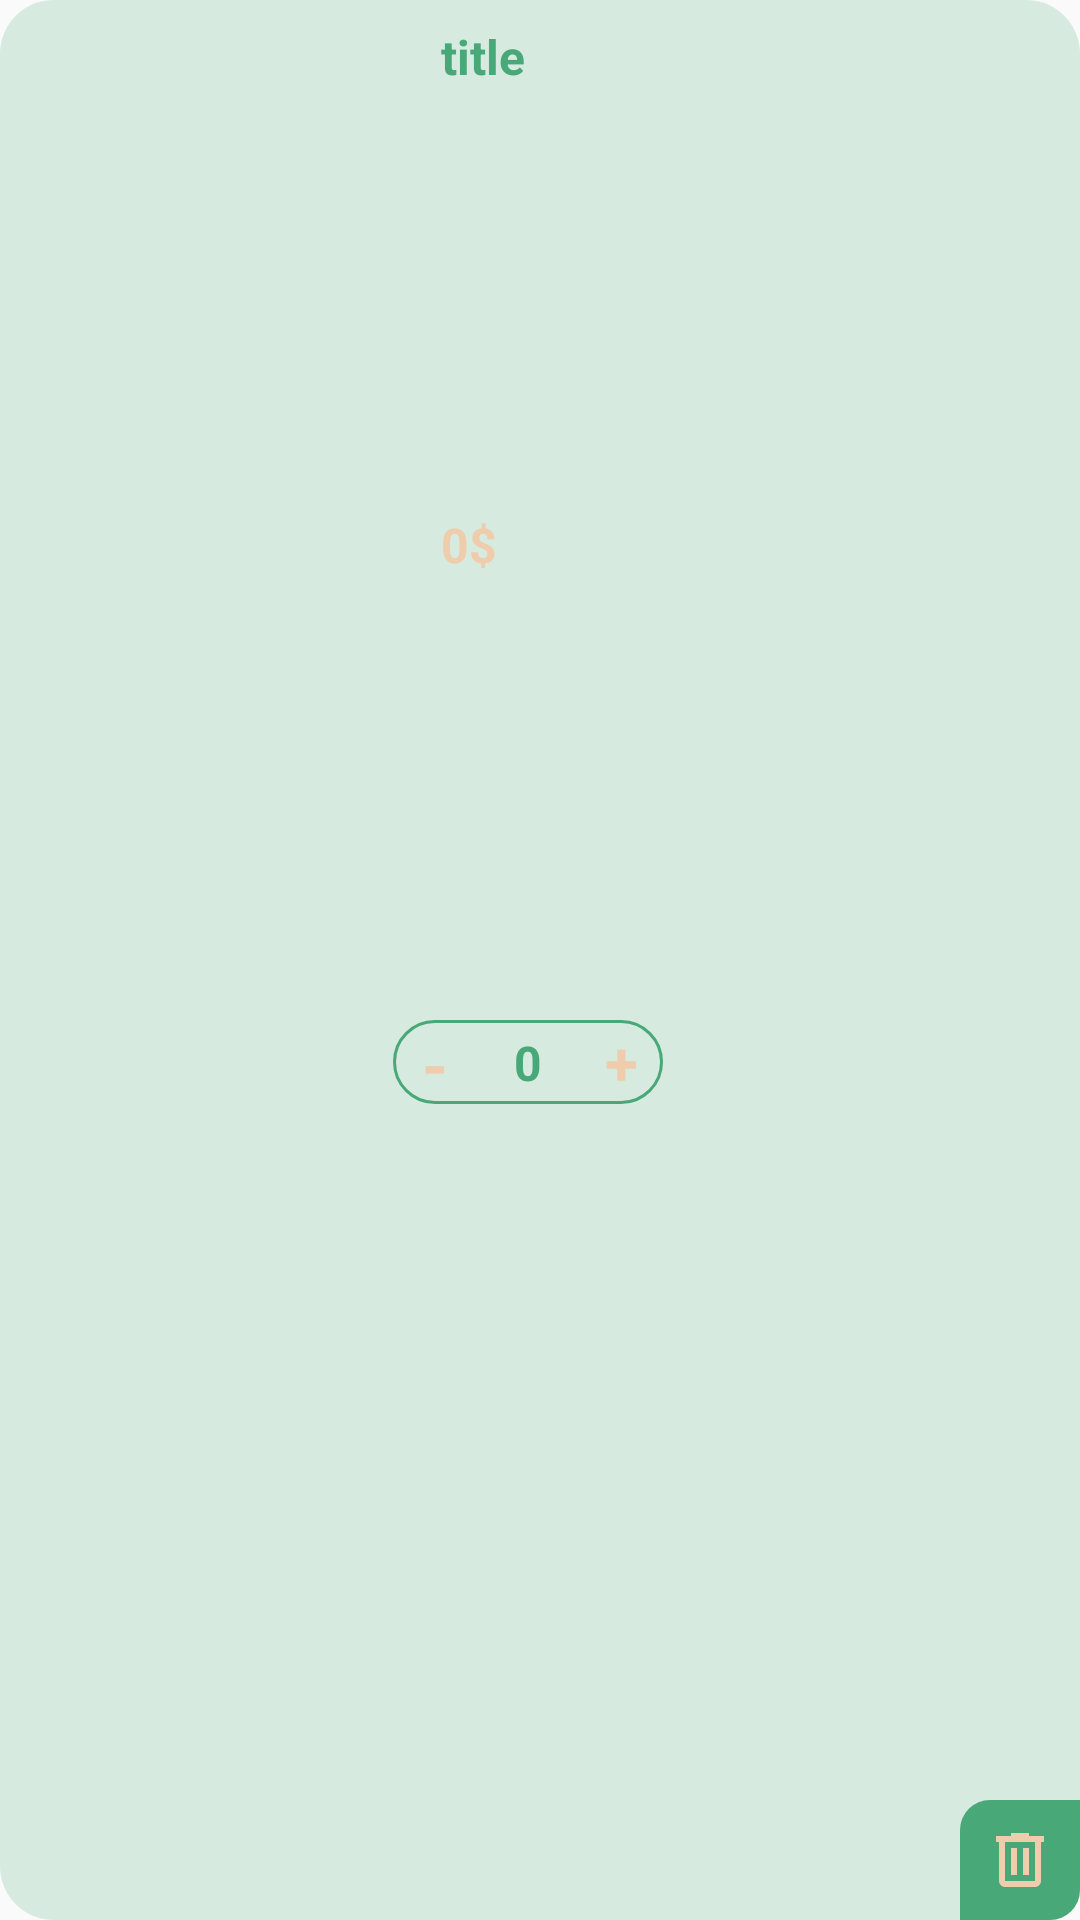

Icon click points for this 1080*1920 phone screenshot, format (x=x, y=y):
deletee: (x=1020, y=1860)
